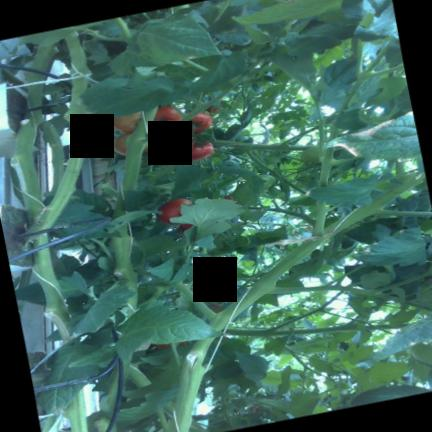6kp_petiole: (123, 119, 186, 163), (237, 270, 315, 304), (296, 212, 357, 253), (343, 192, 414, 225), (189, 295, 250, 331), (248, 317, 298, 337), (231, 141, 265, 159), (269, 134, 305, 151)
MainStem: (210, 176, 420, 330), (23, 31, 92, 233), (111, 106, 158, 218), (166, 338, 215, 432), (9, 109, 44, 229), (32, 247, 70, 342), (109, 223, 137, 293), (210, 140, 313, 151), (292, 324, 359, 335), (128, 363, 151, 388), (225, 329, 287, 337)
tomato: (350, 385, 430, 406), (156, 198, 192, 224), (112, 132, 152, 155), (151, 135, 189, 154), (178, 113, 212, 134), (152, 106, 181, 130), (110, 112, 140, 132), (184, 142, 213, 161), (206, 105, 219, 113)
